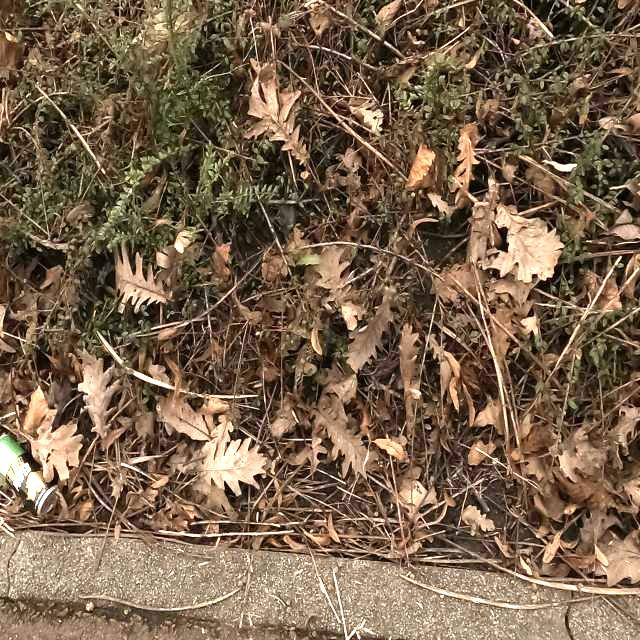Metal: (0, 432, 58, 519)
